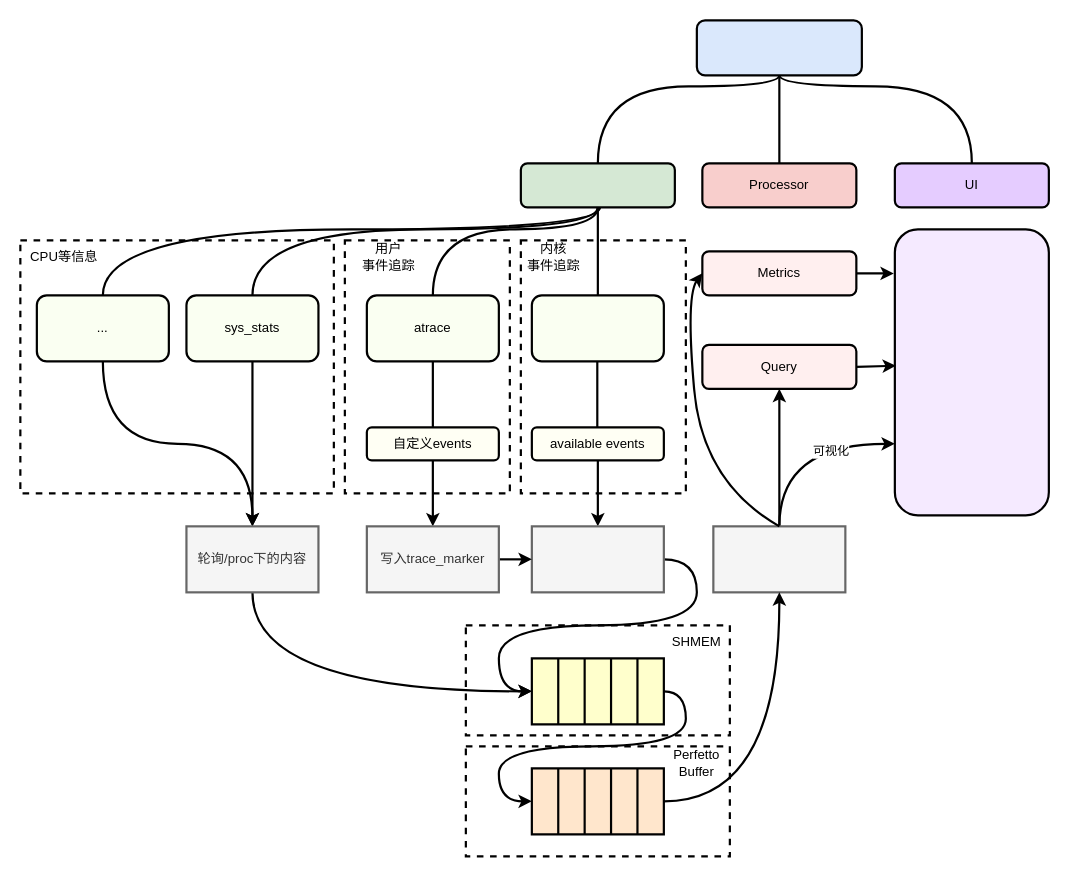
The diagram is 1068 pixels wide and 876 high, and some of its shapes have lost their labels. The centre of each missing label's shape, as x and y in pixels:
"ftrace" goes at (x=597, y=328).
"Perfetto" goes at (x=778, y=47).
"trace file" goes at (x=779, y=559).
"ui.perfetto.dev/" goes at (x=971, y=372).
"写入ring buffer" goes at (x=597, y=559).
"数据源" goes at (x=597, y=185).
